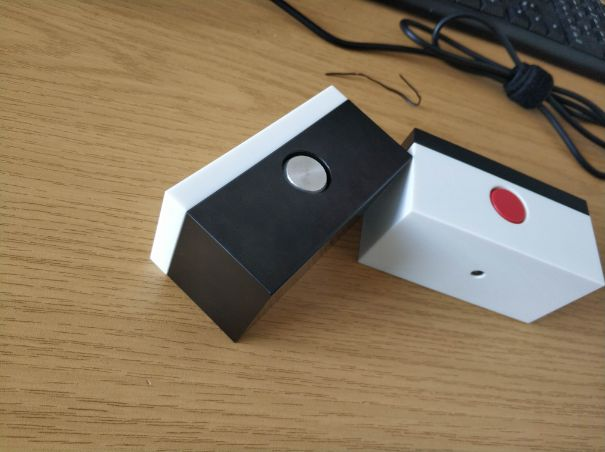black+white+red: (352, 125, 605, 328)
white+black+silver: (146, 83, 414, 348)
